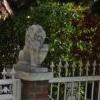Statue: (12, 15, 60, 79)
